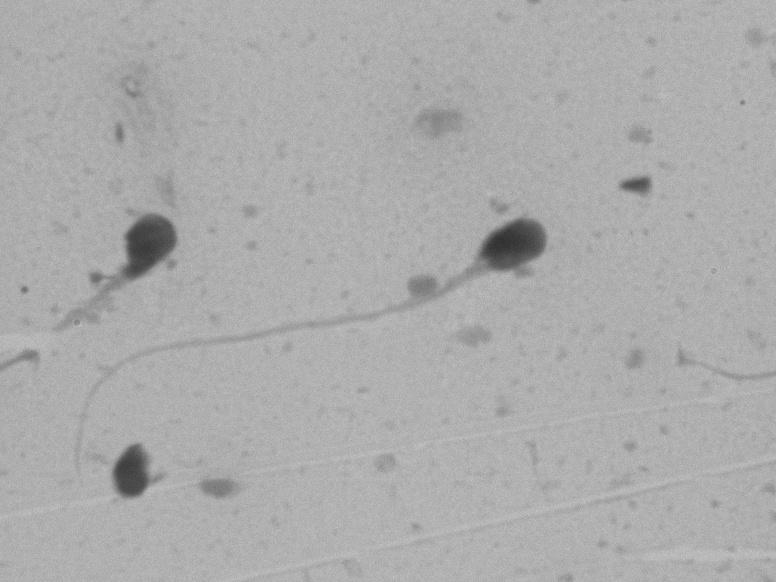Abnormal: (228, 198, 556, 432), (38, 195, 199, 346)
